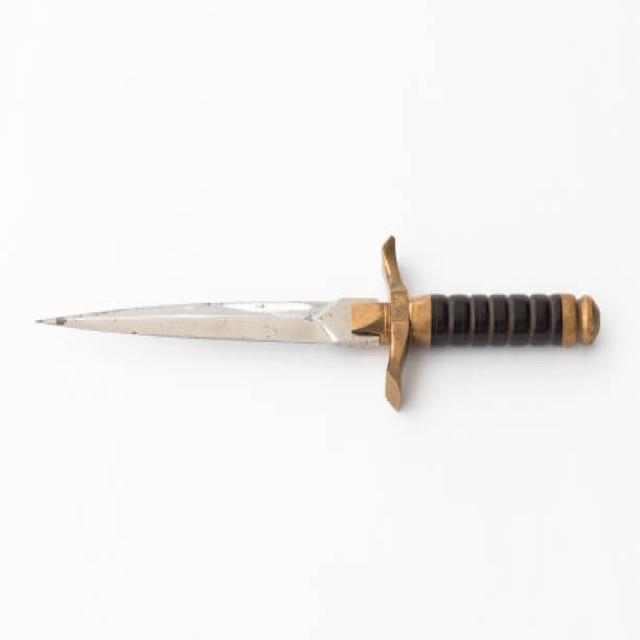knife: (34, 234, 604, 419)
